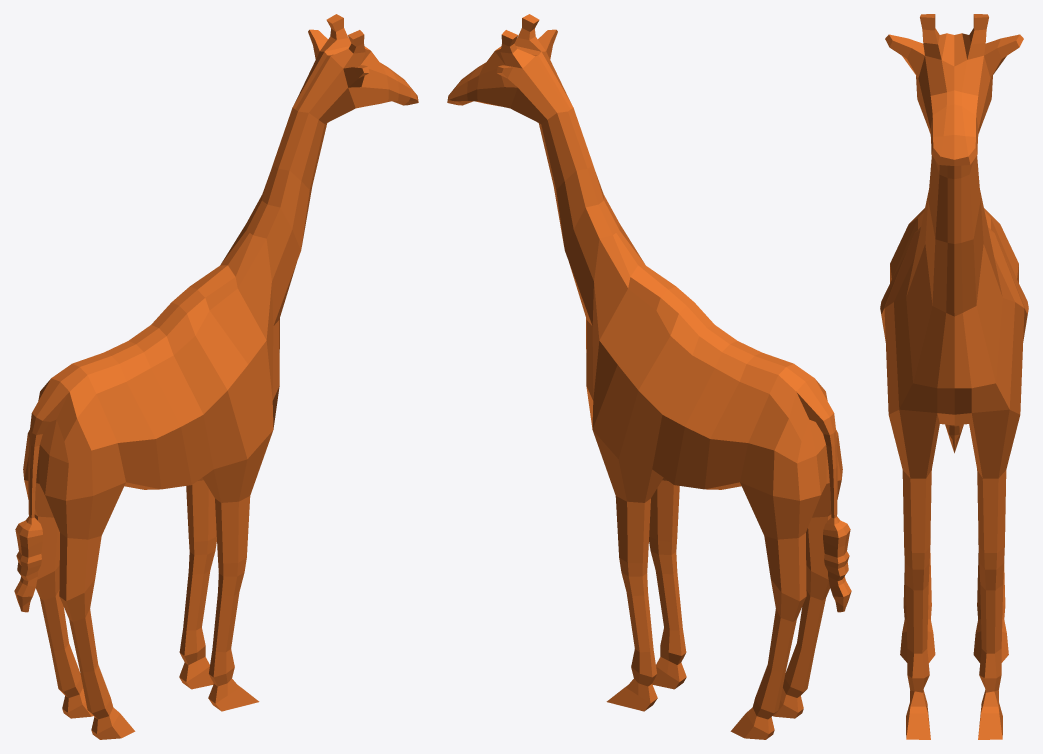
The model's file is girraffe_low_poly.glb.
3 renders of one model, left to right at view 1: azimuth 30°, elevation 25°; view 2: azimuth 150°, elevation 25°; view 3: azimuth 270°, elevation 25°, orthographic. The views are drawn at different scales.
Visible parts, largest first — view 1: Plane; view 2: Plane; view 3: Plane.
Boxes of the visible parts, x1,y1,x2,y2 form: Plane: (14, 14, 418, 739); Plane: (447, 14, 851, 739); Plane: (880, 14, 1028, 739).
Bounding box in the file's own units: 194 × 297 × 50.78.
